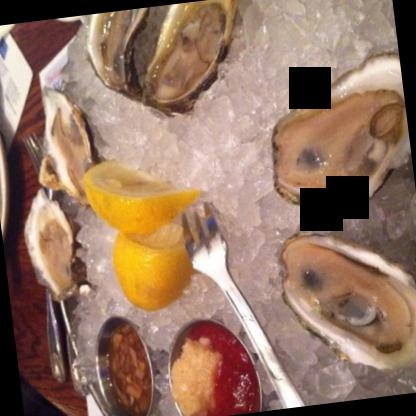oyster: (256, 50, 416, 216), (277, 221, 415, 378), (132, 0, 250, 108), (29, 84, 94, 204), (79, 6, 162, 96), (22, 182, 84, 296)
